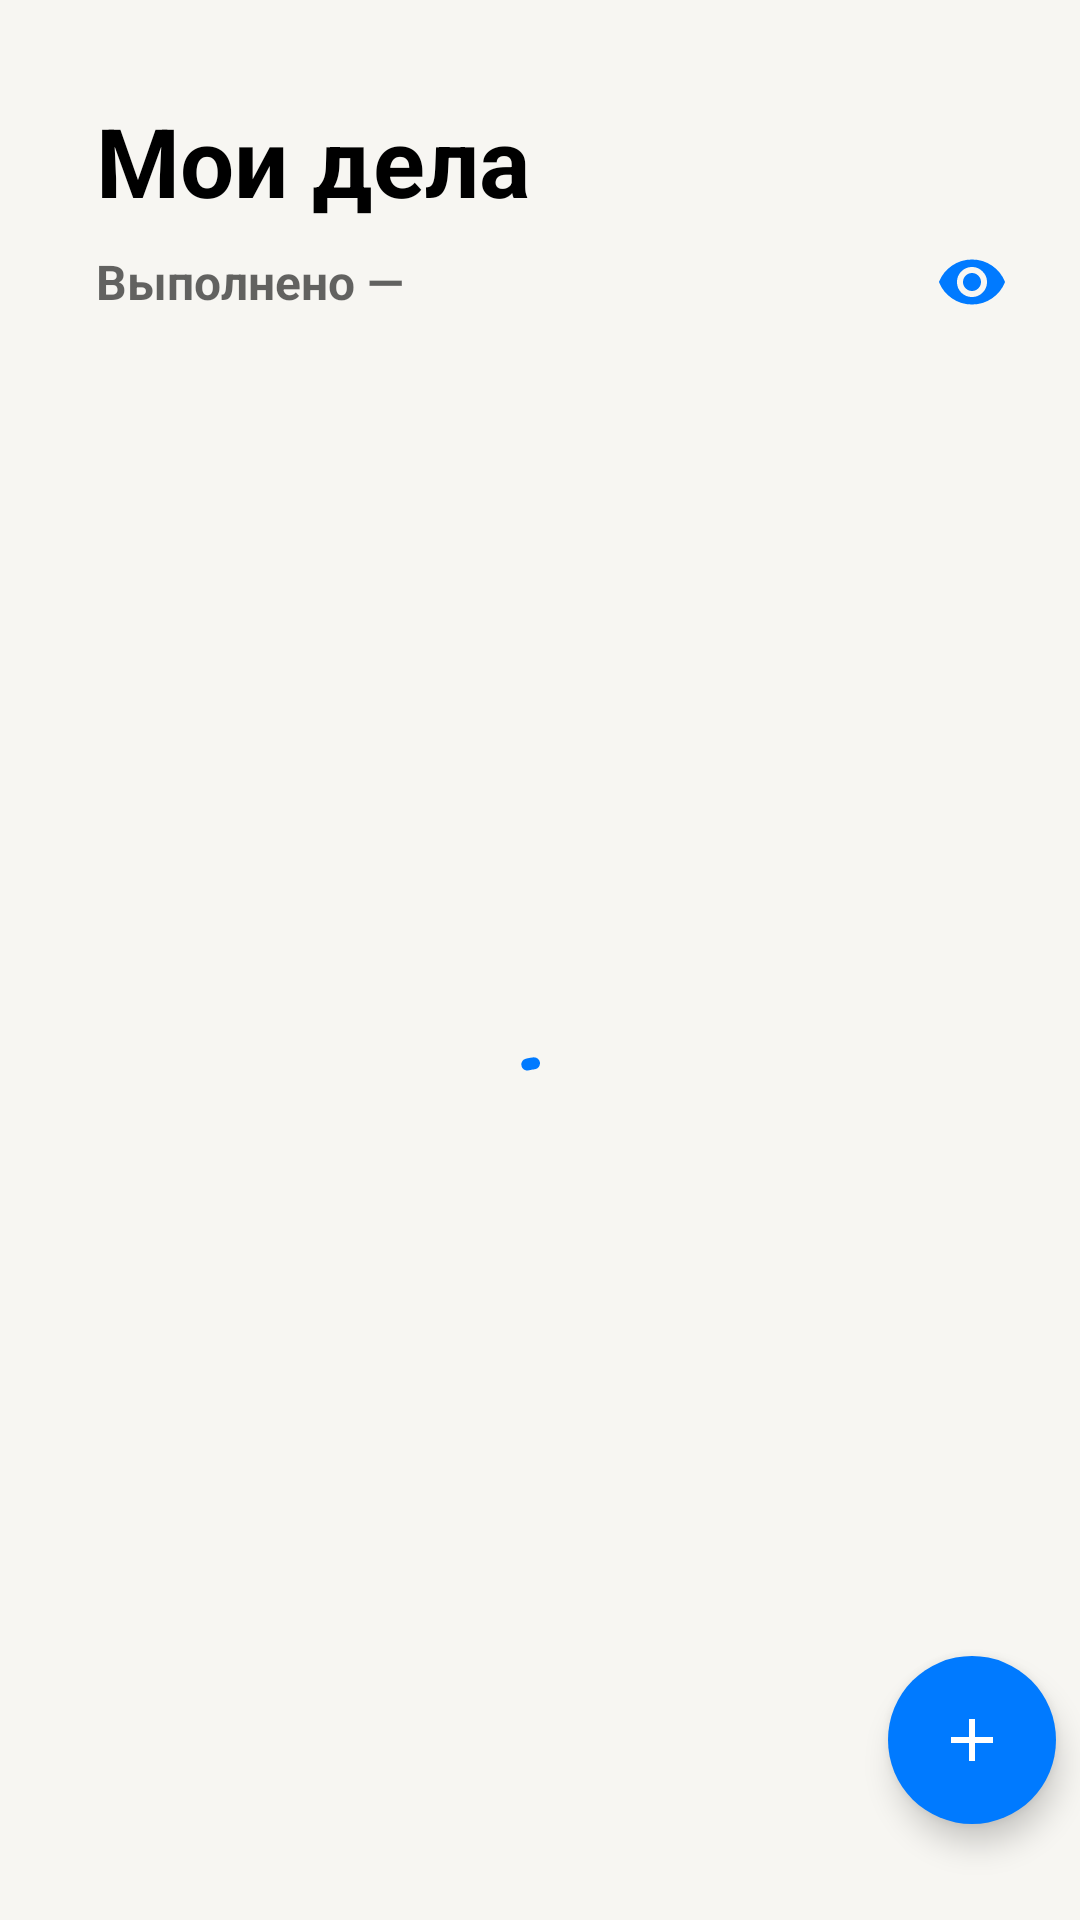

Named icons in this screenshot (1080w x 1920h) and their bounding boxes, bbox=[x1, y1, x2, y2]:
Кнопка скрытия или показа сделанных задач: bbox=[939, 259, 1005, 305]
Кнопка создания новой задачи: bbox=[888, 1656, 1056, 1824]
